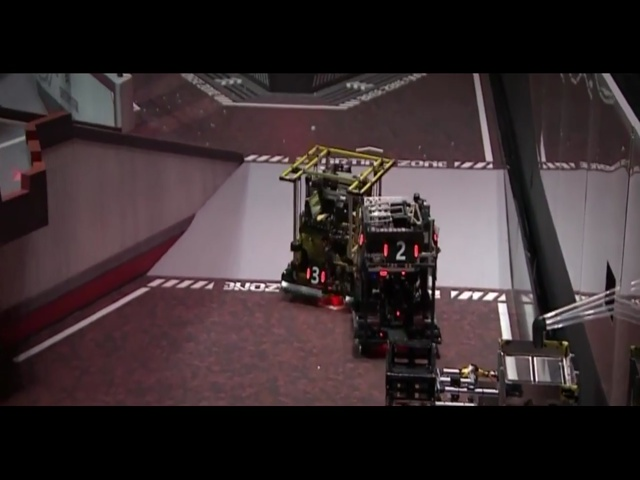plate: (215, 201, 262, 226), (256, 293, 298, 319), (312, 305, 331, 335), (320, 216, 343, 237), (204, 267, 223, 288), (176, 262, 190, 287), (348, 211, 361, 232)
